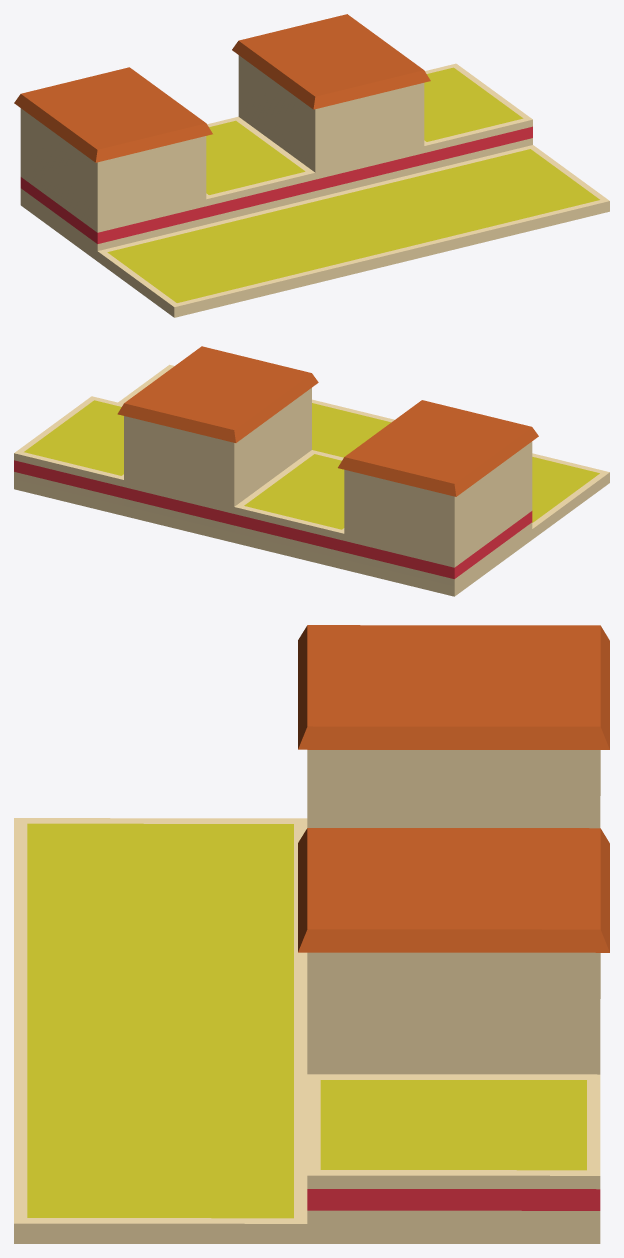
File: House_12.fbx
3 views of the same model, one above another, from view 1: azimuth 30°, elevation 25°; view 2: azimuth 150°, elevation 25°; view 3: azimuth 270°, elevation 25° (orthographic). The views are drawn at different scales.
Visible parts, largest first — view 1: House_12; view 2: House_12; view 3: House_12.
Part boxes in pixels (box(x1,y1,x2,y2)): House_12: box(14, 14, 609, 317); House_12: box(14, 346, 609, 596); House_12: box(14, 625, 609, 1243).
Size of the model in its own units: 454 by 110 by 280.
